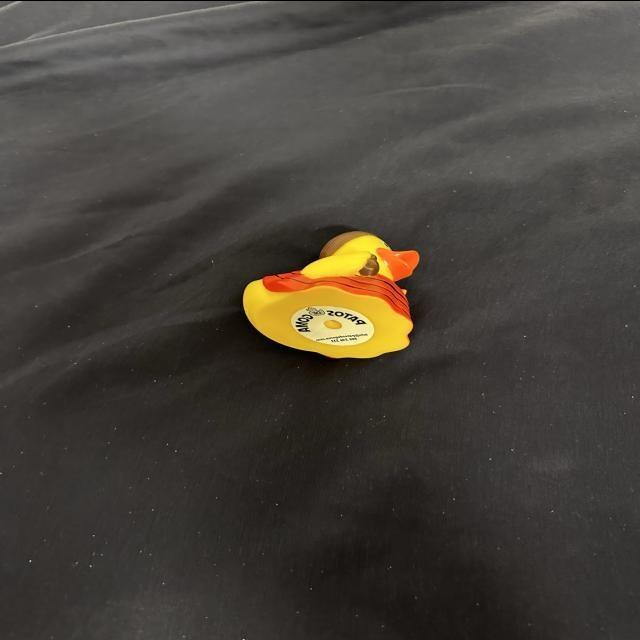rubber-duck: (242, 230, 417, 356)
